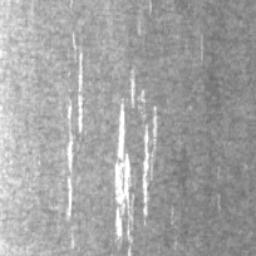White rust: (113, 98, 135, 243), (141, 105, 158, 217), (77, 51, 85, 133), (66, 98, 74, 172), (129, 64, 136, 109), (66, 178, 73, 218), (72, 31, 78, 51), (140, 89, 146, 103), (128, 245, 133, 256)
